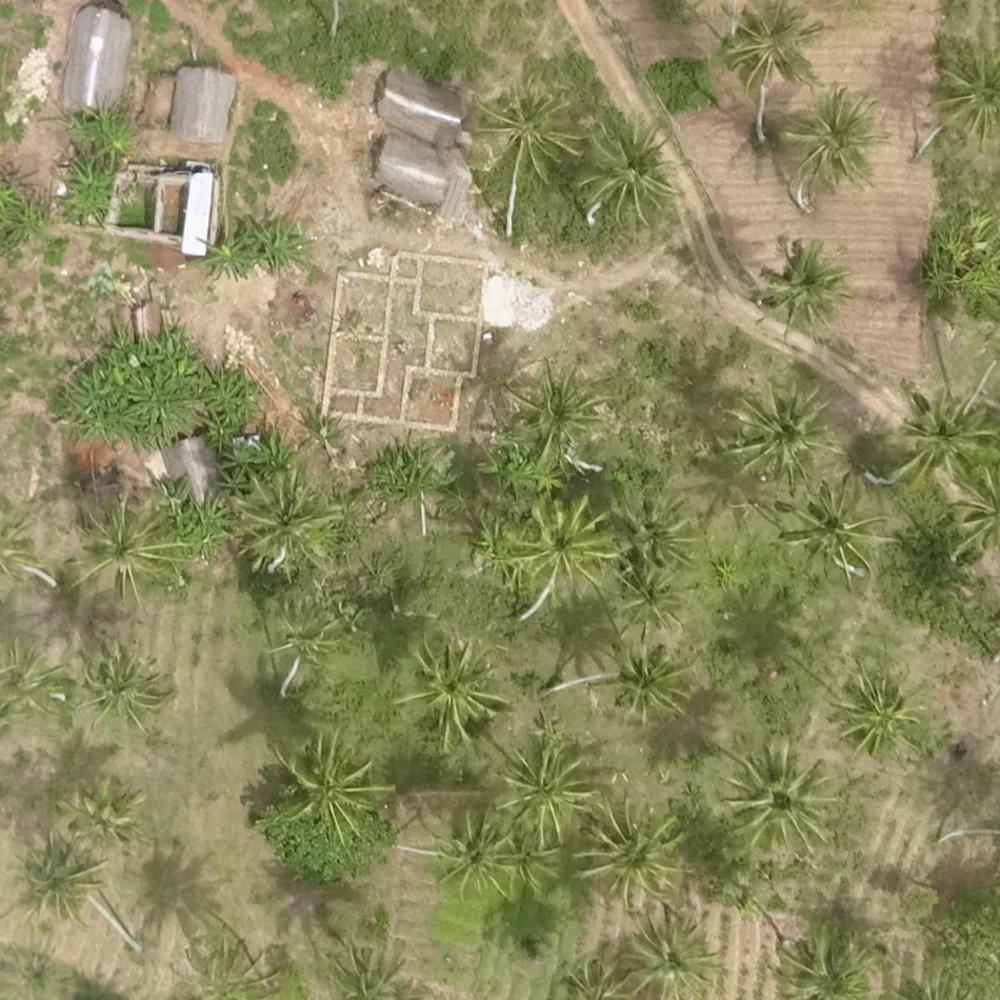Palm: (269, 731, 386, 842), (398, 633, 509, 745), (77, 497, 187, 605), (724, 741, 831, 852), (584, 122, 688, 231), (233, 467, 340, 569), (477, 79, 585, 175), (578, 797, 678, 900), (735, 383, 834, 482), (780, 477, 878, 576), (785, 88, 881, 186), (504, 495, 603, 589), (505, 359, 605, 452), (502, 738, 591, 839), (72, 639, 168, 730), (720, 1, 819, 89), (897, 386, 990, 477), (620, 909, 713, 999), (432, 806, 524, 891), (761, 240, 851, 326), (832, 666, 916, 751), (8, 836, 97, 915), (609, 639, 692, 722), (64, 776, 144, 844), (612, 558, 685, 629)
